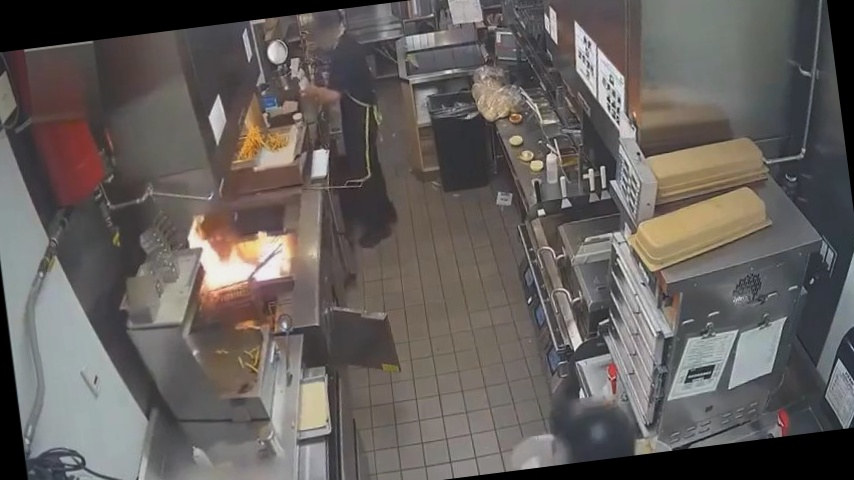fire: (152, 187, 308, 313)
